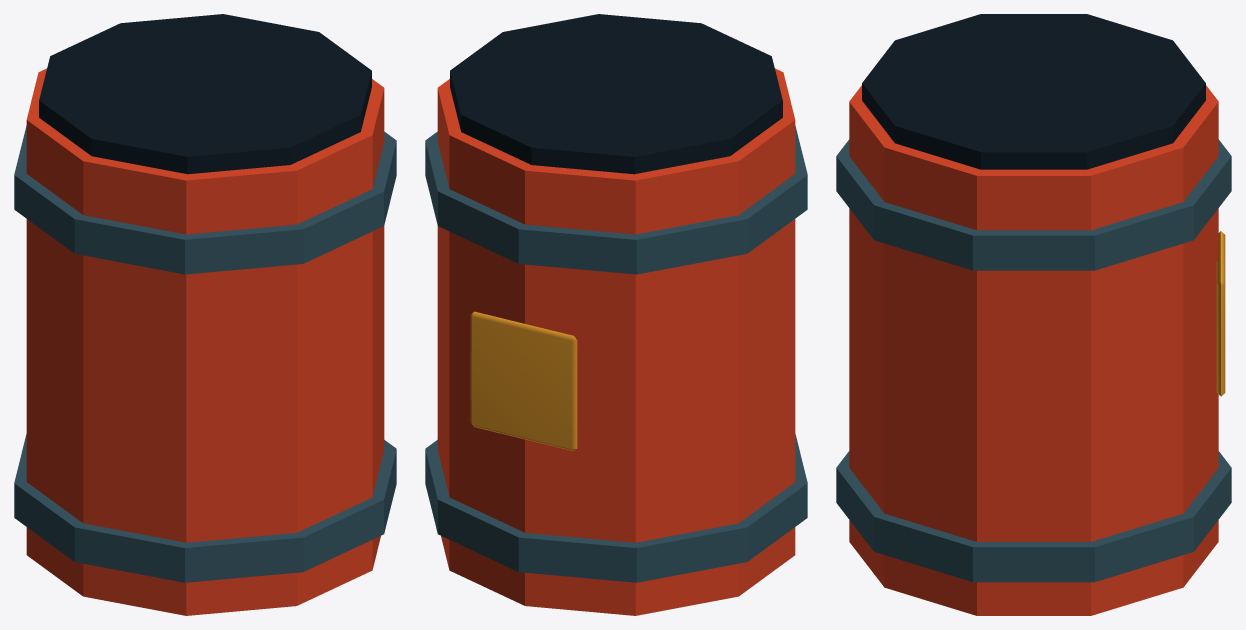
The model's file is barrel.glb.
3 views of the same model, side by side, from view 1: azimuth 30°, elevation 25°; view 2: azimuth 150°, elevation 25°; view 3: azimuth 270°, elevation 25° (orthographic).
Visible parts, largest first — view 1: body, top, band, band.001; view 2: body, top, band, band.001, hazard; view 3: body, top, band, band.001, hazard.
Part boxes in pixels (bbox=[...]): body: bbox=[26, 68, 384, 615]; top: bbox=[39, 14, 371, 174]; band: bbox=[14, 434, 396, 582]; band.001: bbox=[14, 125, 396, 274]; body: bbox=[437, 68, 795, 615]; top: bbox=[450, 14, 782, 174]; band: bbox=[425, 434, 807, 582]; band.001: bbox=[425, 125, 807, 274]; hazard: bbox=[470, 311, 577, 451]; body: bbox=[849, 85, 1218, 615]; top: bbox=[862, 14, 1205, 169]; band: bbox=[836, 451, 1231, 582]; band.001: bbox=[836, 139, 1231, 270]; hazard: bbox=[1216, 231, 1225, 396].
Bounding box in the file's own units: 0.875 × 1.18 × 0.92.
